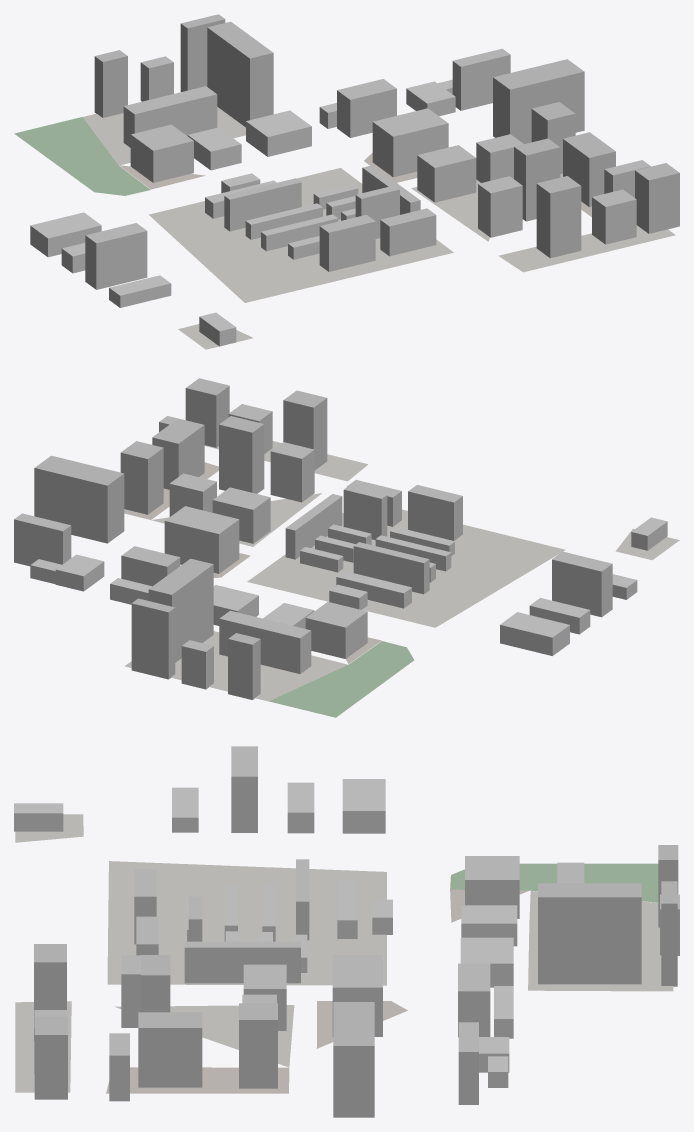
The model's file is 113_76_mid.glb.
3 renders of one model, top to bottom at view 1: azimuth 30°, elevation 25°; view 2: azimuth 150°, elevation 25°; view 3: azimuth 270°, elevation 25°, orthographic. The views are drawn at different scales.
Bounding box in the file's own units: 567 × 73.77 × 506.
